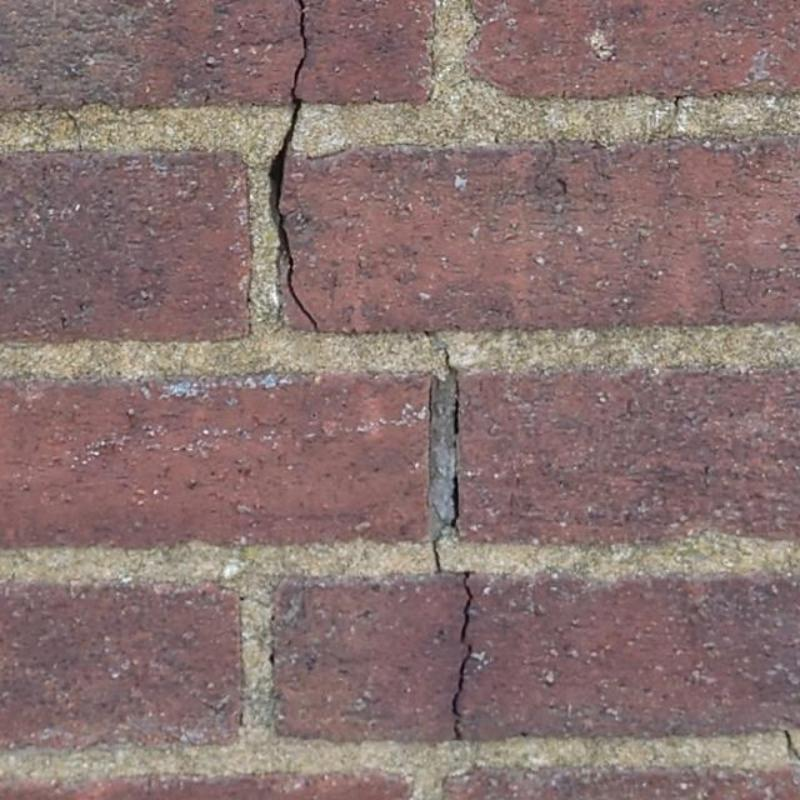crack: (269, 0, 318, 330), (433, 538, 477, 643), (439, 345, 461, 470), (452, 643, 473, 740), (450, 472, 460, 528), (785, 730, 799, 761)
